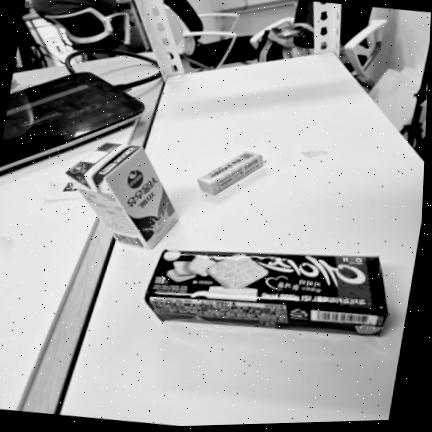cracker_ace: (144, 250, 387, 337)
gum_yellow: (197, 151, 263, 194)
milk_blue: (66, 143, 177, 249)
